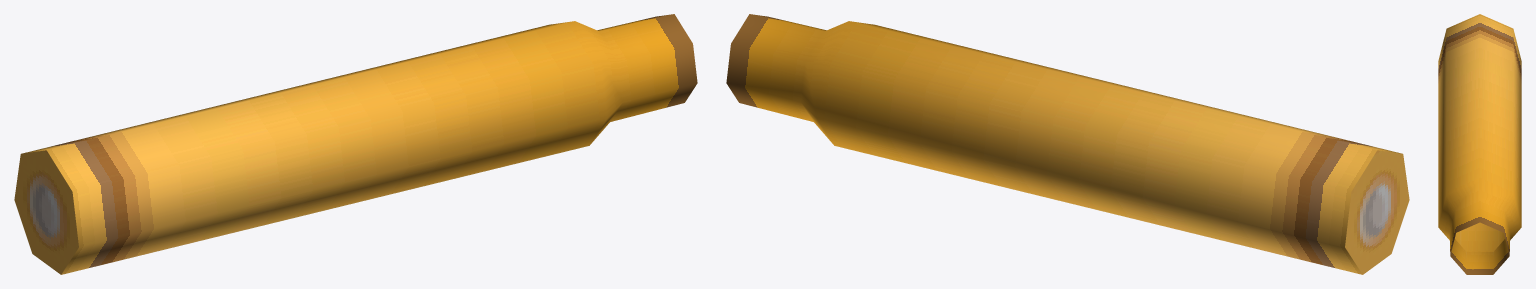
The model's file is 792Round_Spent.fbx.
3 views of the same model, side by side, from view 1: azimuth 30°, elevation 25°; view 2: azimuth 150°, elevation 25°; view 3: azimuth 270°, elevation 25° (orthographic). The views are drawn at different scales.
Parts seen in each view (by area): view 1: 792ammo; view 2: 792ammo; view 3: 792ammo.
Part boxes in pixels (bbox=[...]): 792ammo: bbox=[14, 14, 697, 274]; 792ammo: bbox=[726, 14, 1409, 274]; 792ammo: bbox=[1438, 14, 1521, 274].
Size of the model in its own units: 0.1226 by 0.0213 by 0.0219.
